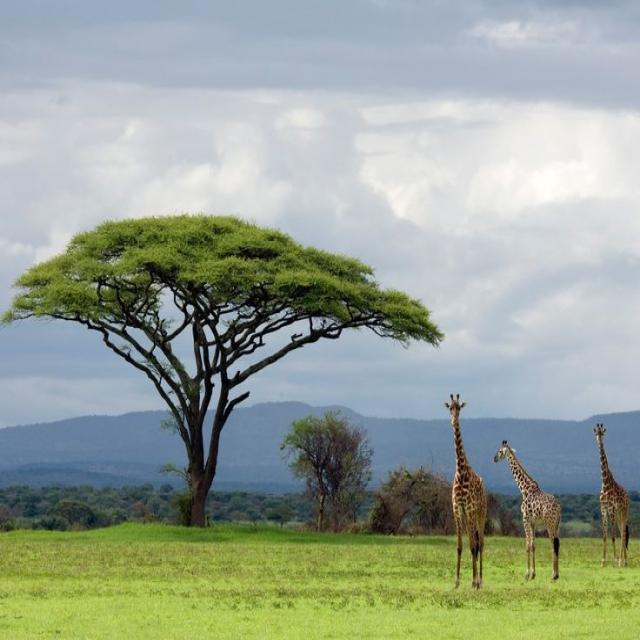Acacia: (24, 216, 420, 410), (283, 421, 373, 525)
